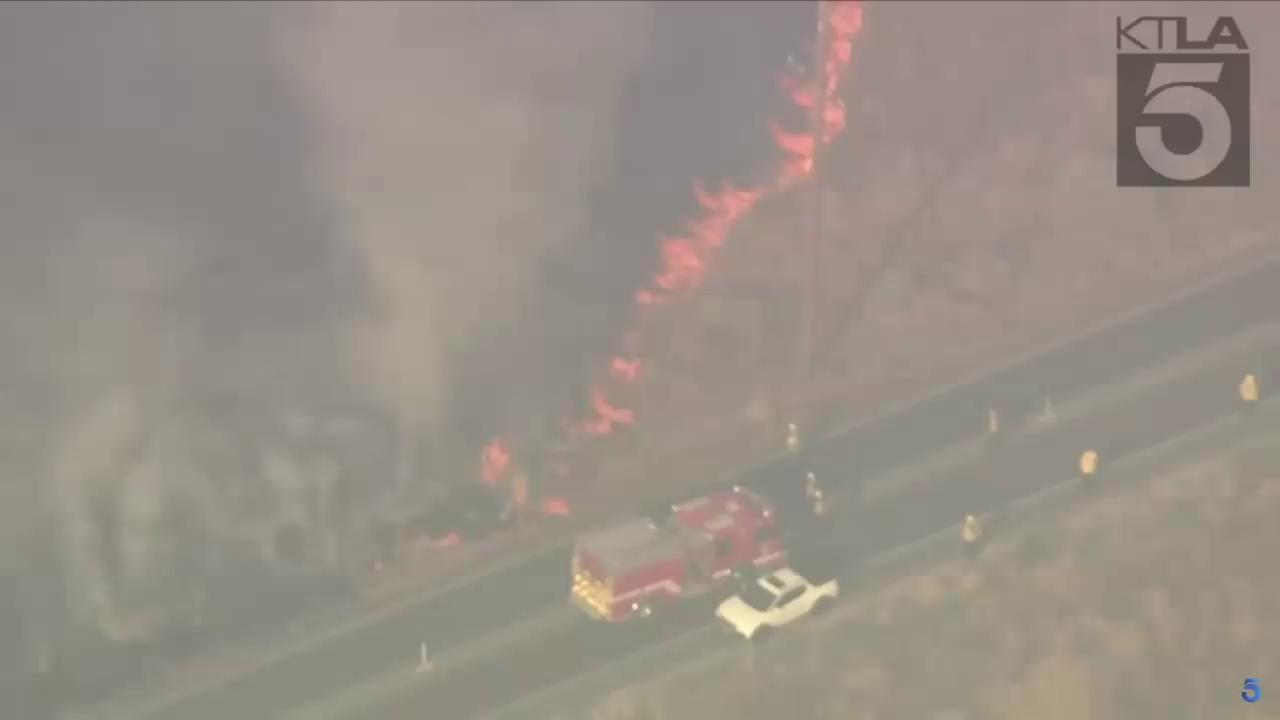fire: (632, 0, 864, 312), (561, 385, 635, 438), (474, 438, 511, 490), (609, 356, 642, 385), (534, 496, 571, 518)
smoke: (0, 0, 824, 720)
